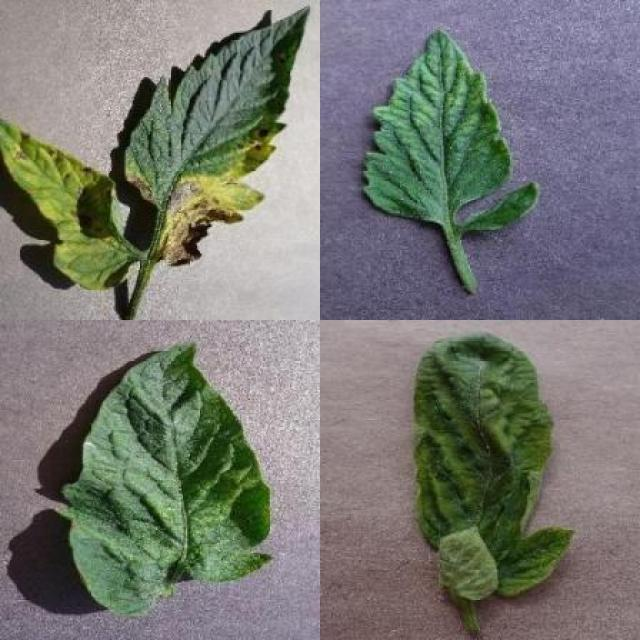Early Blight: (124, 5, 310, 268)
Mosaic Virus: (364, 27, 539, 234)
Spider Mites: (67, 340, 274, 617)
Yellow Leaf Curl Virus: (413, 329, 576, 601)
